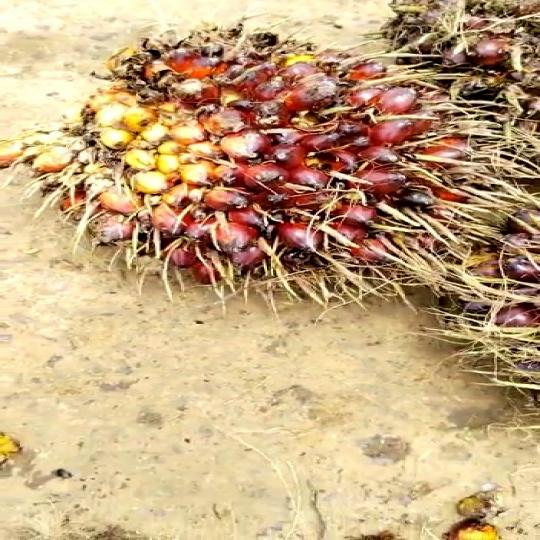masak: (22, 22, 498, 308)
